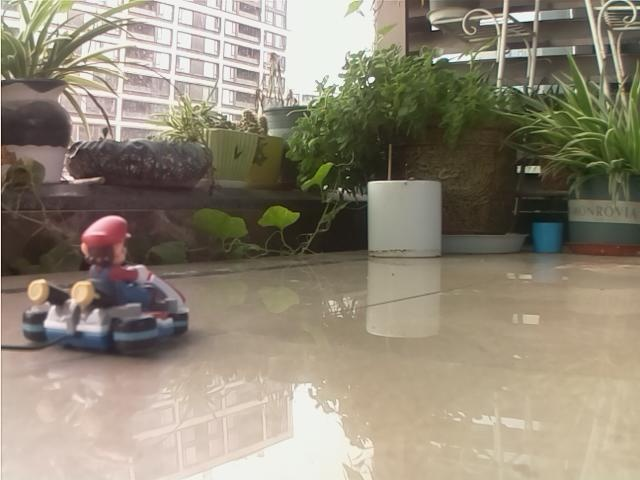mario: (15, 202, 199, 370)
